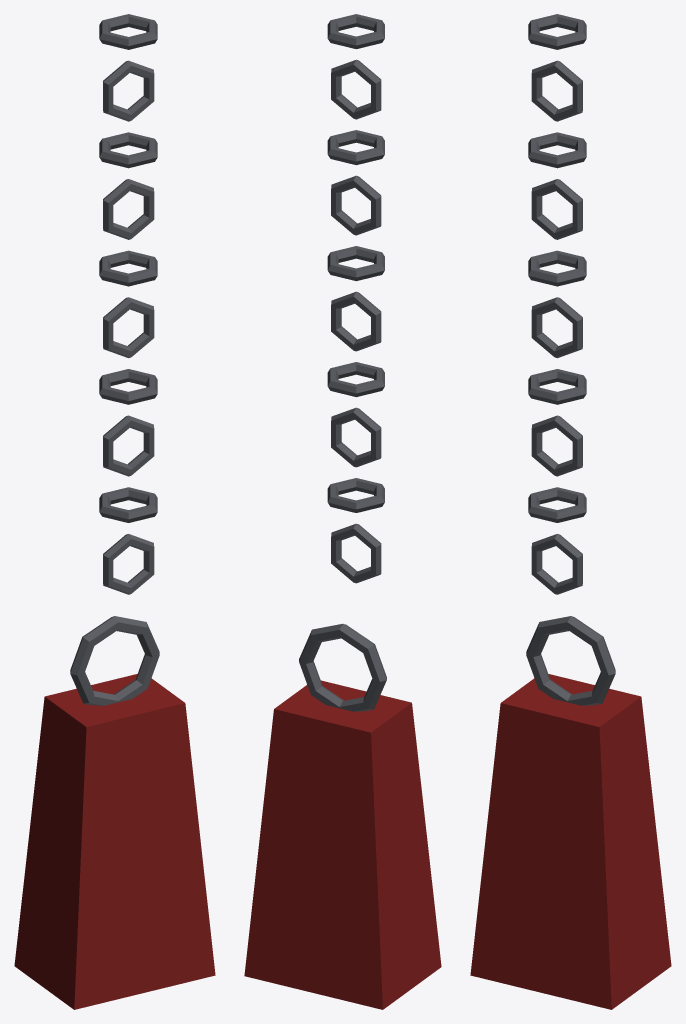
The model's file is hook.glb.
3 views of the same model, side by side, from view 1: azimuth 30°, elevation 25°; view 2: azimuth 150°, elevation 25°; view 3: azimuth 330°, elevation 25° (orthographic).
Visible parts, largest first — view 1: hook; view 2: hook; view 3: hook.
Boxes of the visible parts, x1,y1,x2,y2 form: hook: [14, 14, 215, 1009]; hook: [244, 14, 441, 1009]; hook: [470, 14, 671, 1009].
Bounding box in the file's own units: 0.3 × 1.94 × 0.22.
